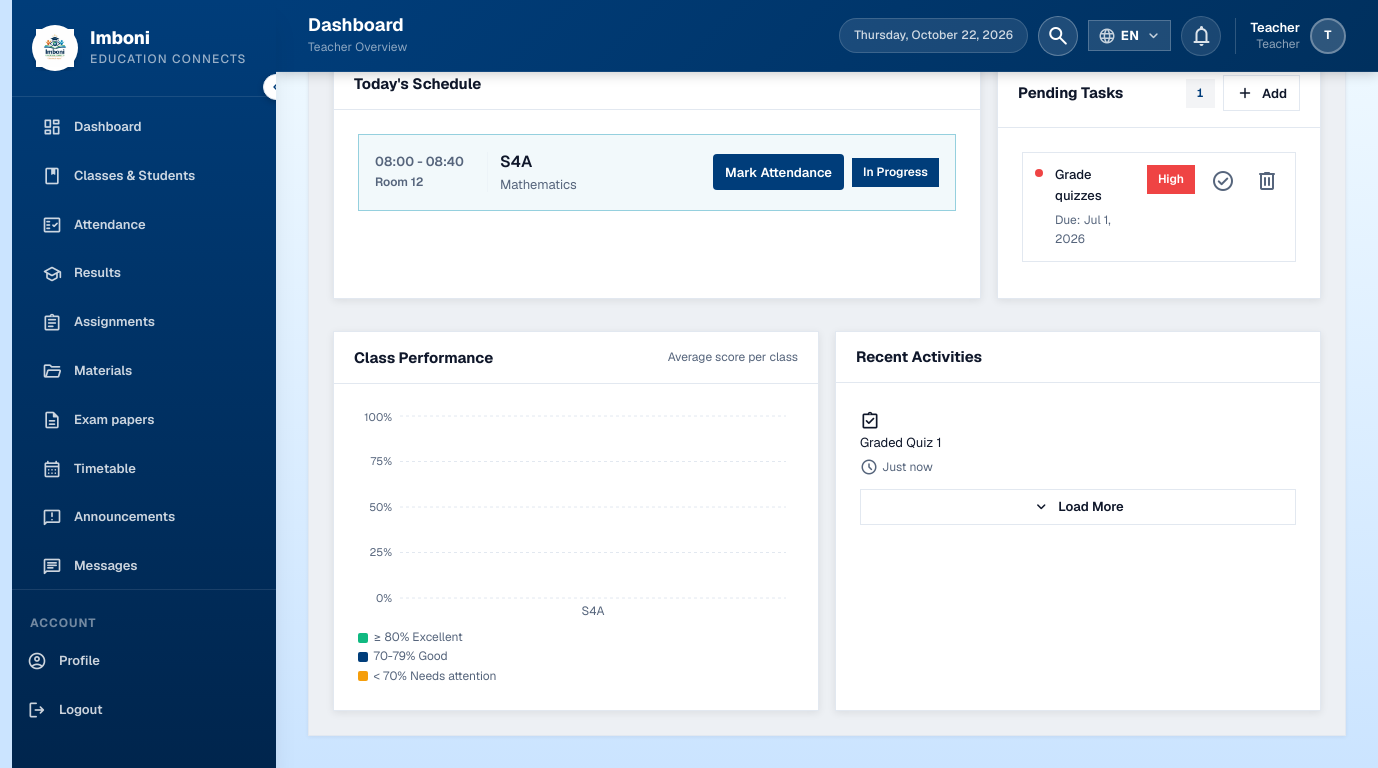
it: TeacherDashboard › loads more activities when "Load More" is clicked
(page scrolled)
expect the text "Graded Quiz 1" is shown: met, box [860, 434, 941, 451]
Click the button "Load More".
click(1078, 507)  # box [860, 489, 1296, 525]
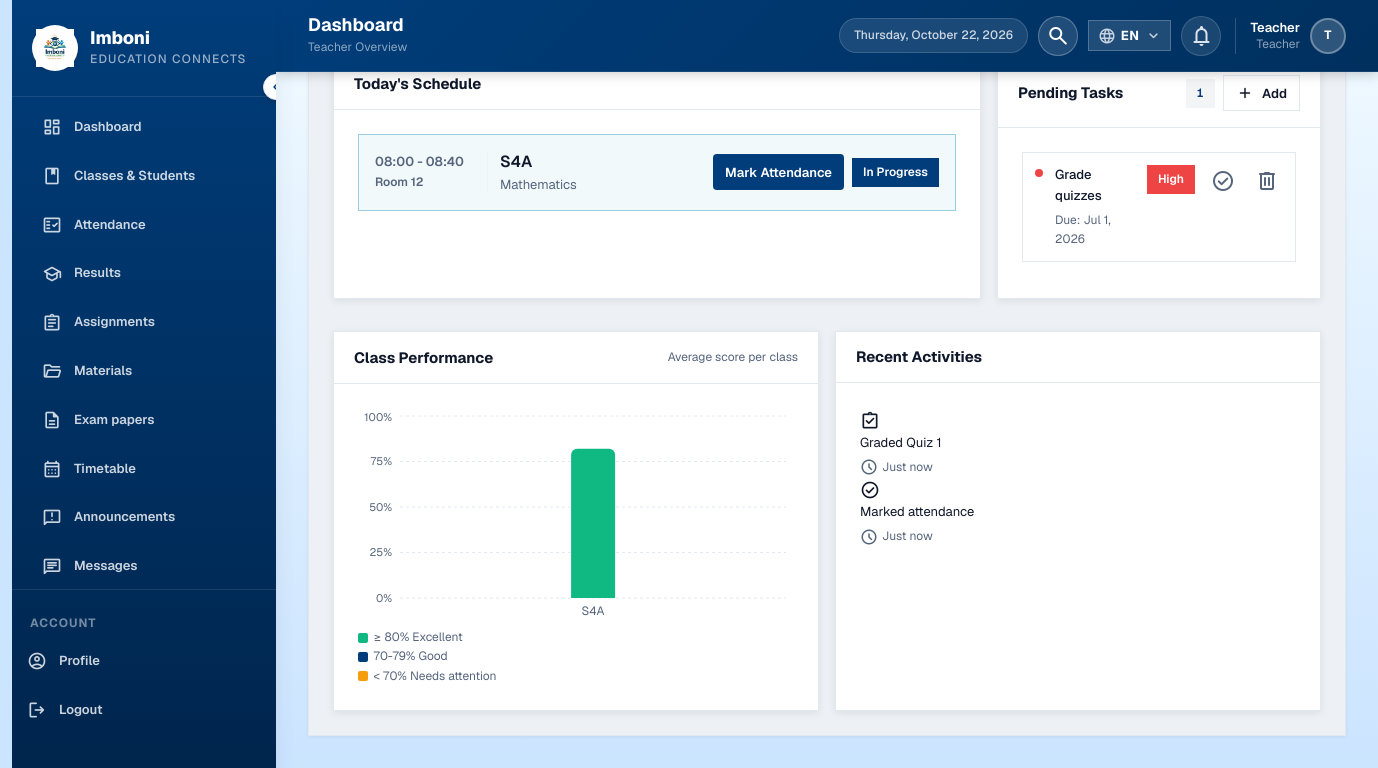
expect the text "Marked attendance" is shown: met, box [860, 503, 974, 520]
